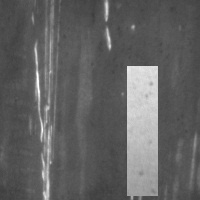pitted_surface: (127, 66, 158, 196)
scratches: (32, 1, 64, 198), (128, 139, 148, 199), (101, 1, 116, 54)
